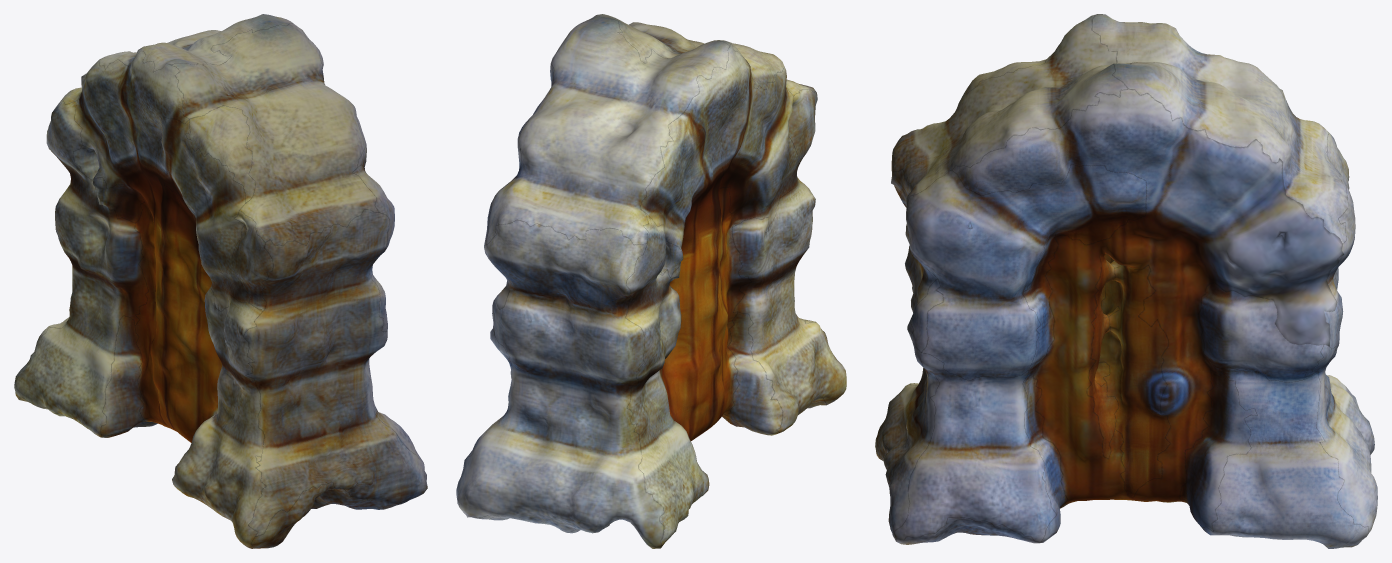
The model's file is door_stone_arc.glb.
3 renders of one model, left to right at view 1: azimuth 30°, elevation 25°; view 2: azimuth 150°, elevation 25°; view 3: azimuth 270°, elevation 25°, orthographic. The views are drawn at different scales.
Visible parts, largest first — view 1: Mesh1; view 2: Mesh1; view 3: Mesh1.
Boxes of the visible parts, <box> form: Mesh1: <box>14,14,427,548</box>; Mesh1: <box>456,14,846,548</box>; Mesh1: <box>875,14,1377,548</box>.
Bounding box in the file's own units: 0.6432 × 1.2 × 1.16.
1 material, 1 textured.
